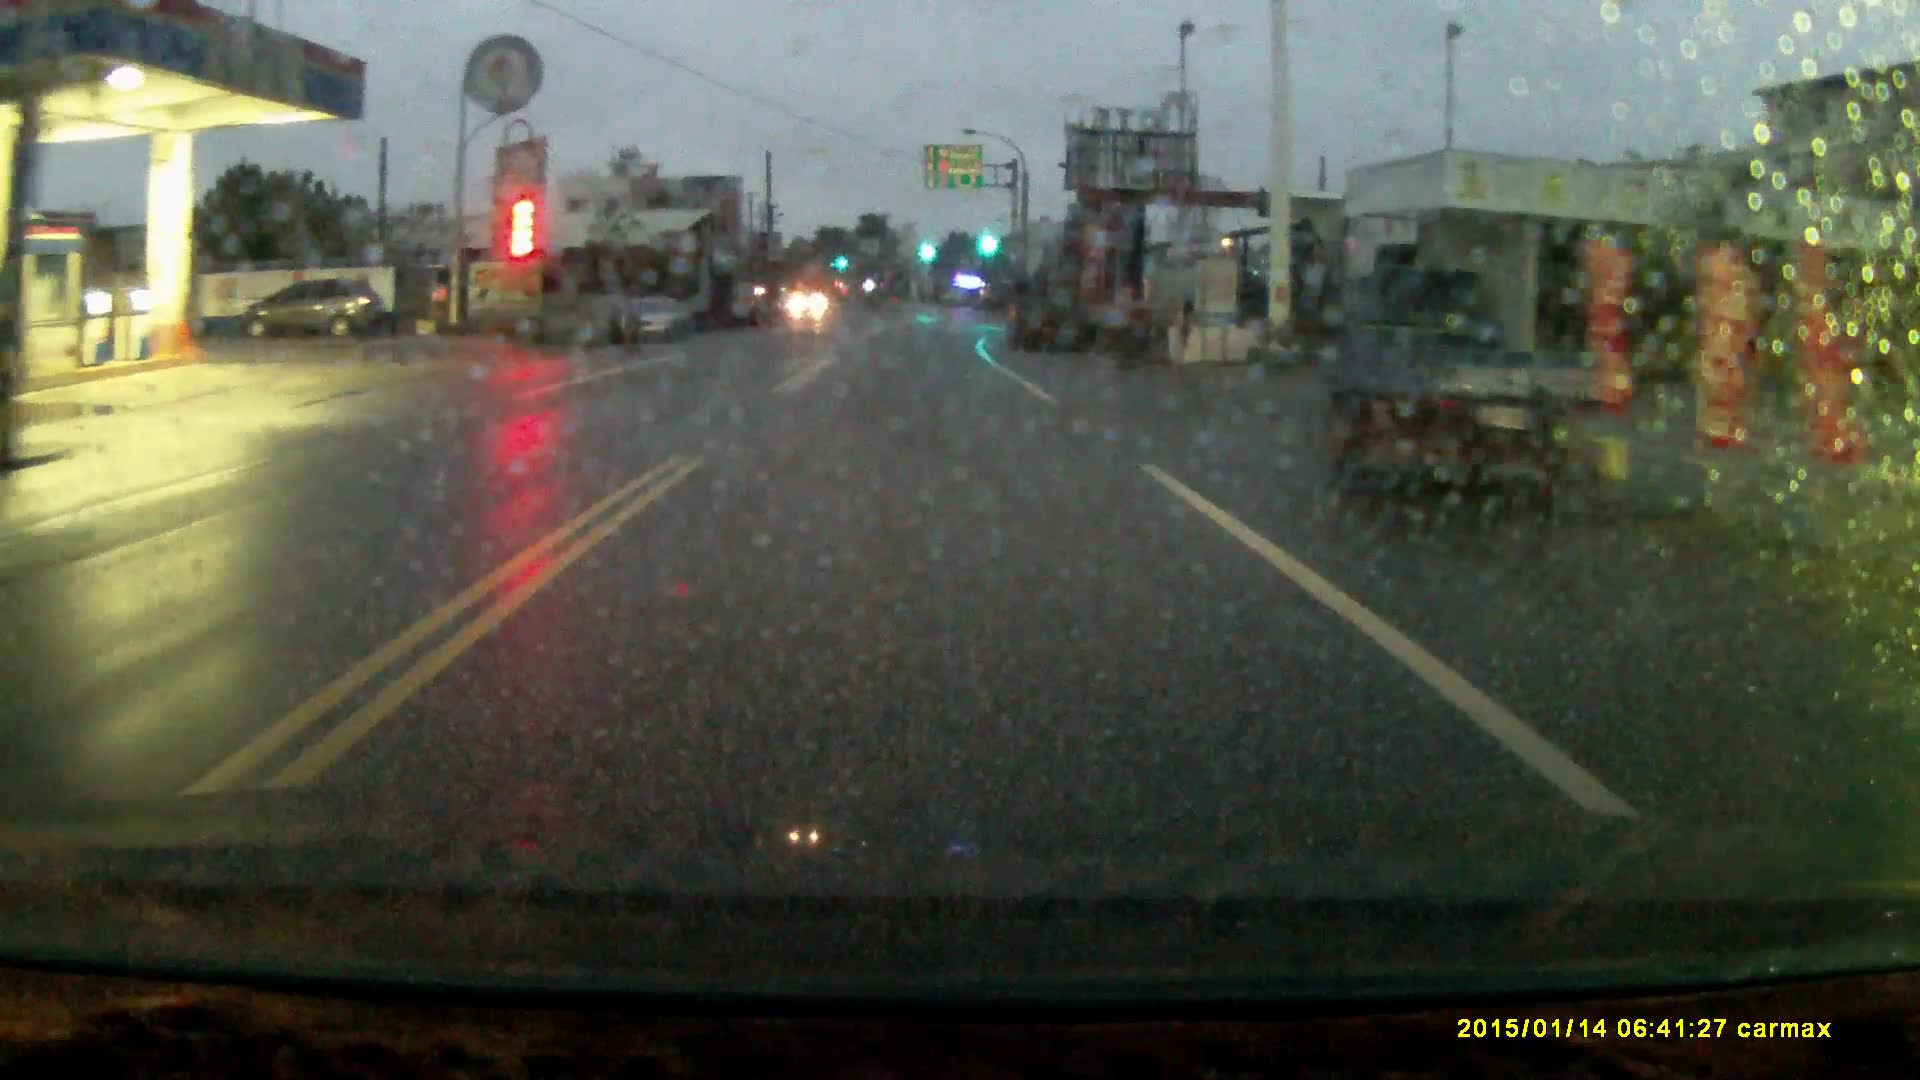rider: (624, 270, 663, 358)
vehicle: (1364, 267, 1594, 502), (240, 284, 385, 340), (1008, 272, 1097, 357), (619, 301, 701, 347)
